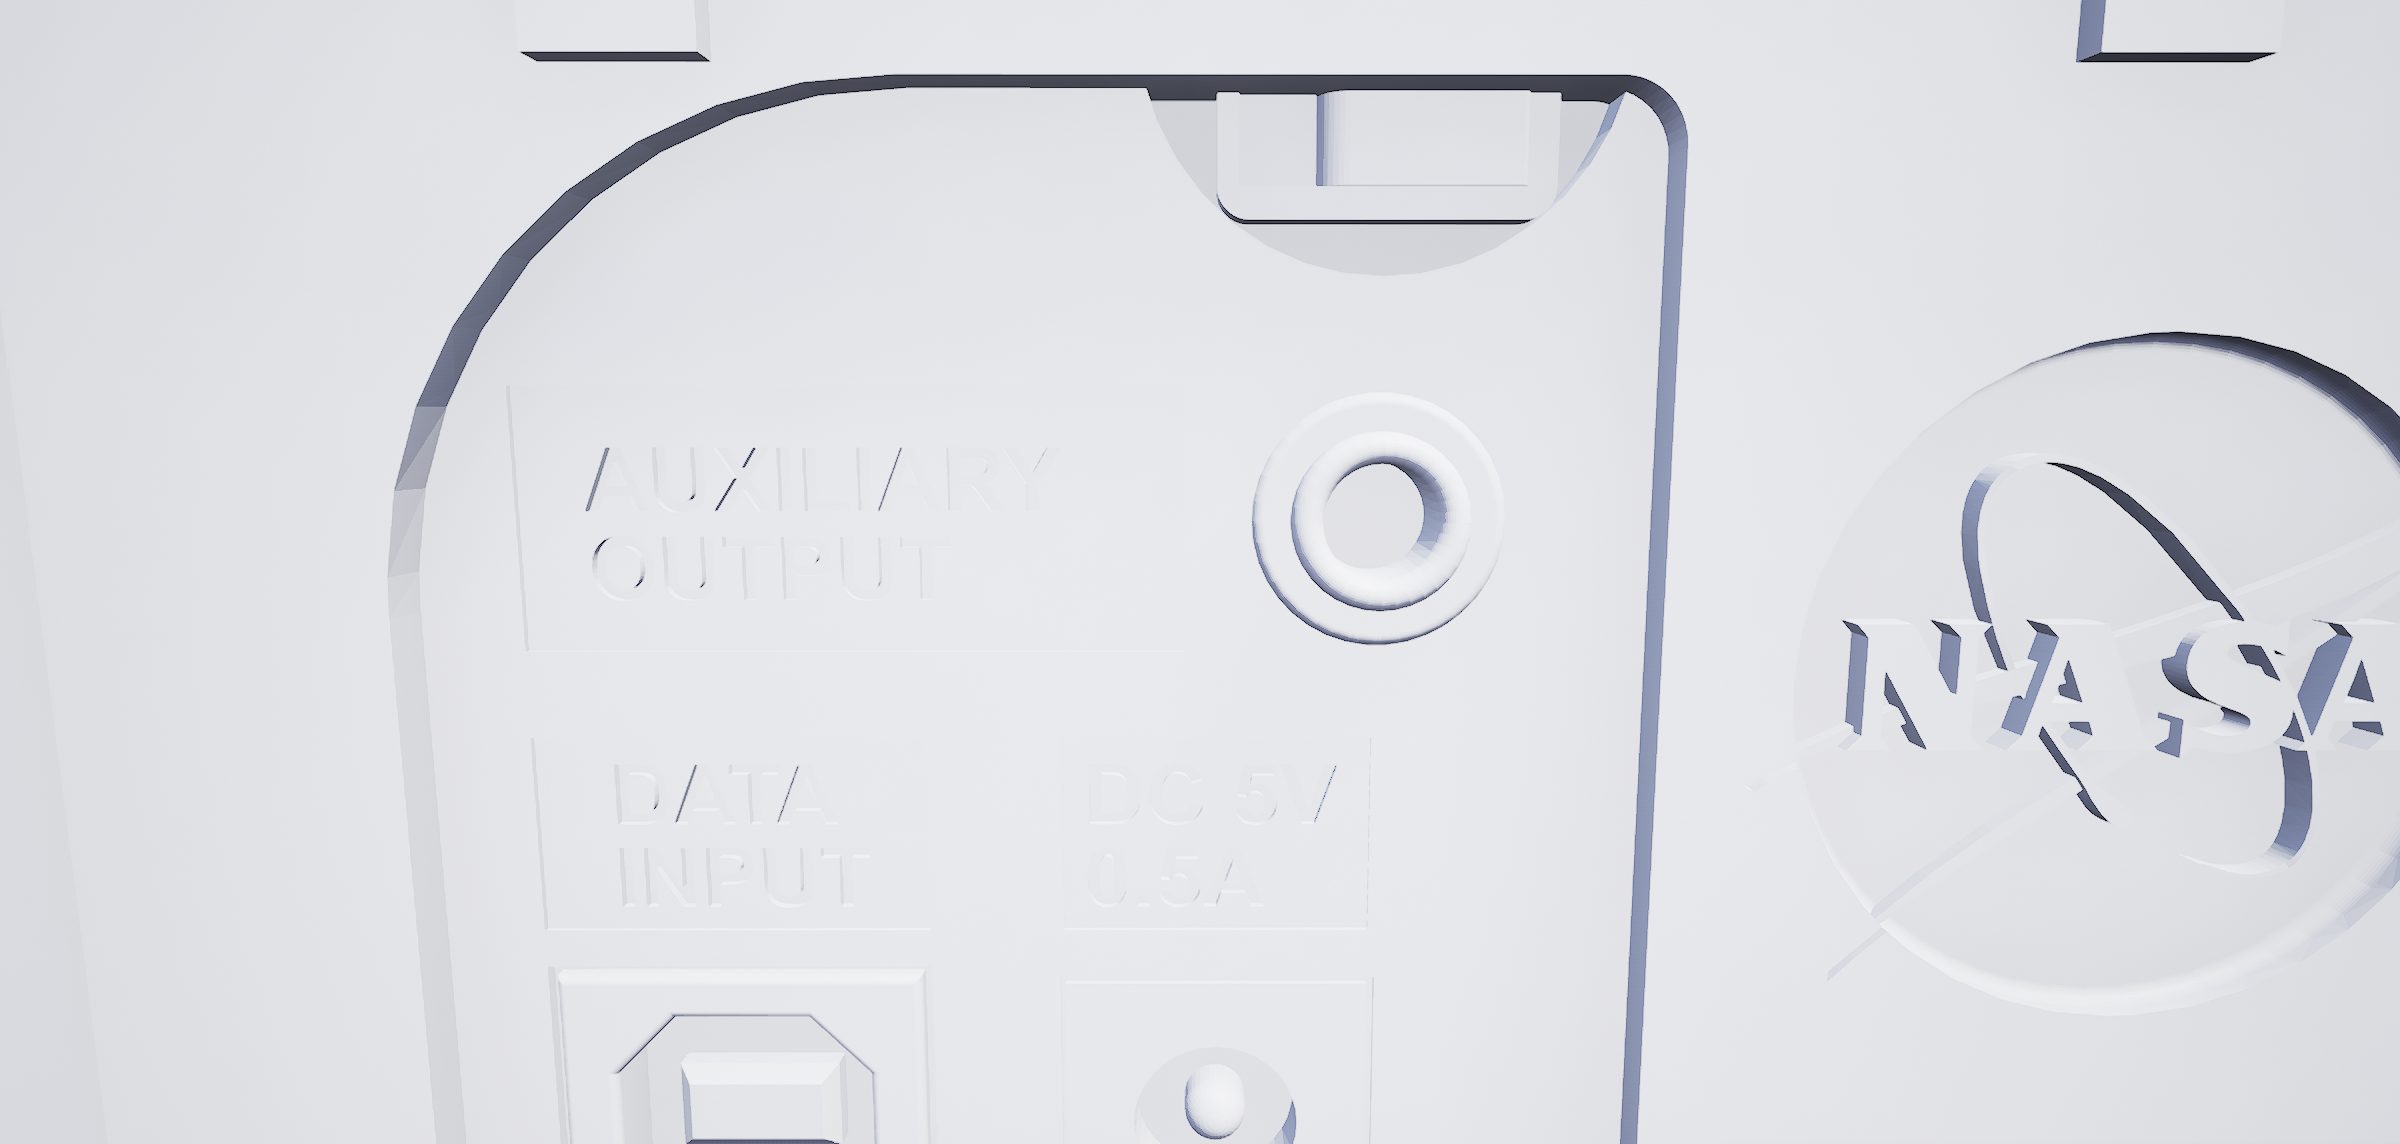aux: (1241, 378, 1515, 659)
dc: (1116, 1028, 1322, 1144)
usb: (609, 1002, 889, 1144)
